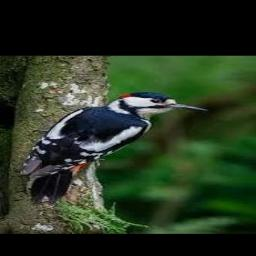Woodpecker: (20, 92, 207, 206)
